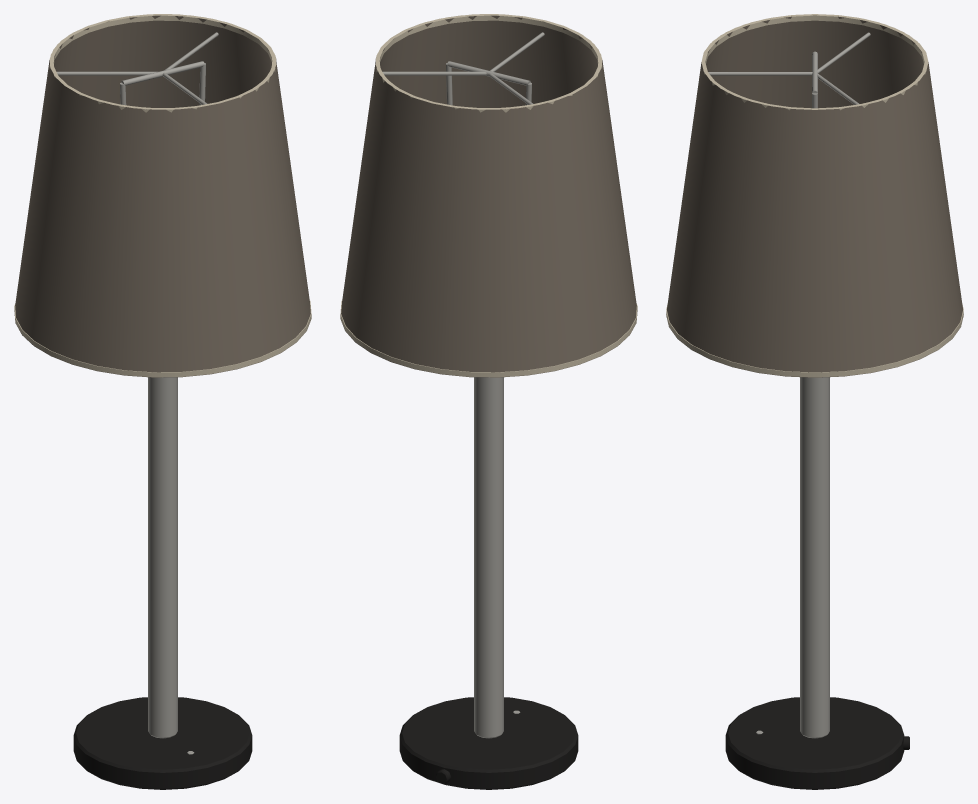
The model's file is bedroom-reading-lamp-372b11f824af.glb.
The picture shows the model from 3 angles, left to right: view 1: azimuth 30°, elevation 25°; view 2: azimuth 150°, elevation 25°; view 3: azimuth 270°, elevation 25°; orthographic projection.
Parts seen in each view (by area): view 1: cover-cloth, brushed, enamel-black, cloth-cream; view 2: cover-cloth, brushed, enamel-black, cloth-cream; view 3: cover-cloth, enamel-black, brushed, cloth-cream.
Part boxes in pixels (x1,y1,x2,y2): cover-cloth: (14,15,310,377); brushed: (56,32,218,754); enamel-black: (73,697,252,789); cloth-cream: (14,14,311,377); cover-cloth: (341,15,637,377); brushed: (382,32,544,738); enamel-black: (399,697,578,789); cloth-cream: (340,14,637,377); cover-cloth: (666,15,963,377); enamel-black: (725,697,904,789); brushed: (708,32,870,738); cloth-cream: (666,14,963,377).
Size of the model in its own units: 0.16 by 0.41 by 0.16.
